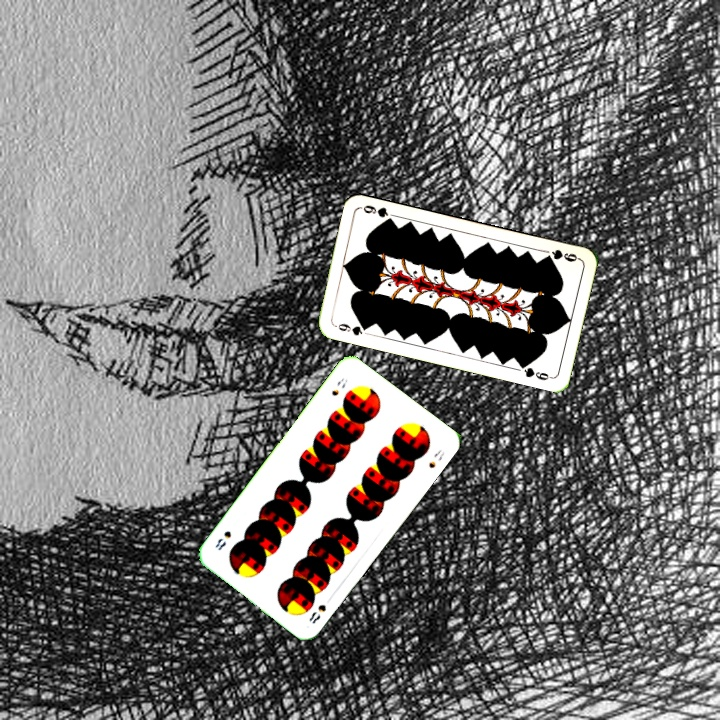G9: (540, 245, 582, 264), (330, 319, 372, 338)
S8: (305, 600, 329, 626), (327, 374, 350, 398)
